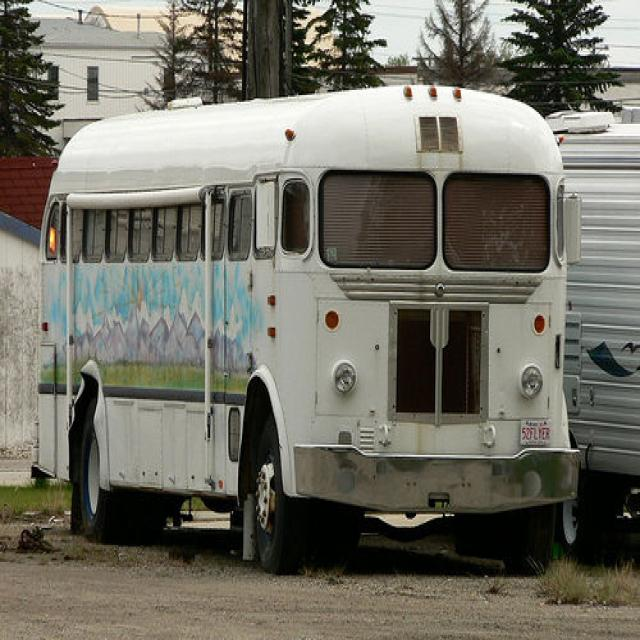Vehicle: (35, 95, 573, 584), (545, 110, 640, 569)
